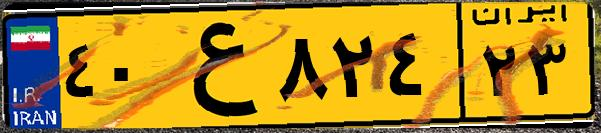0: (110, 28, 158, 98)
2: (330, 28, 385, 110), (475, 38, 525, 113)
3: (525, 38, 570, 115)
4: (385, 28, 445, 110), (57, 26, 110, 100)
8: (270, 28, 330, 110)
ع: (158, 12, 270, 120)
